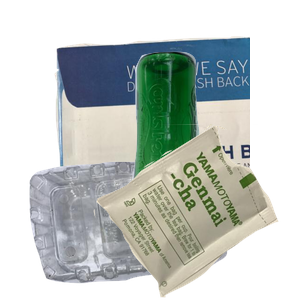glass: (129, 49, 300, 229)
paper: (52, 34, 292, 214)
plastic: (27, 152, 247, 300)
trash: (91, 124, 300, 300)
